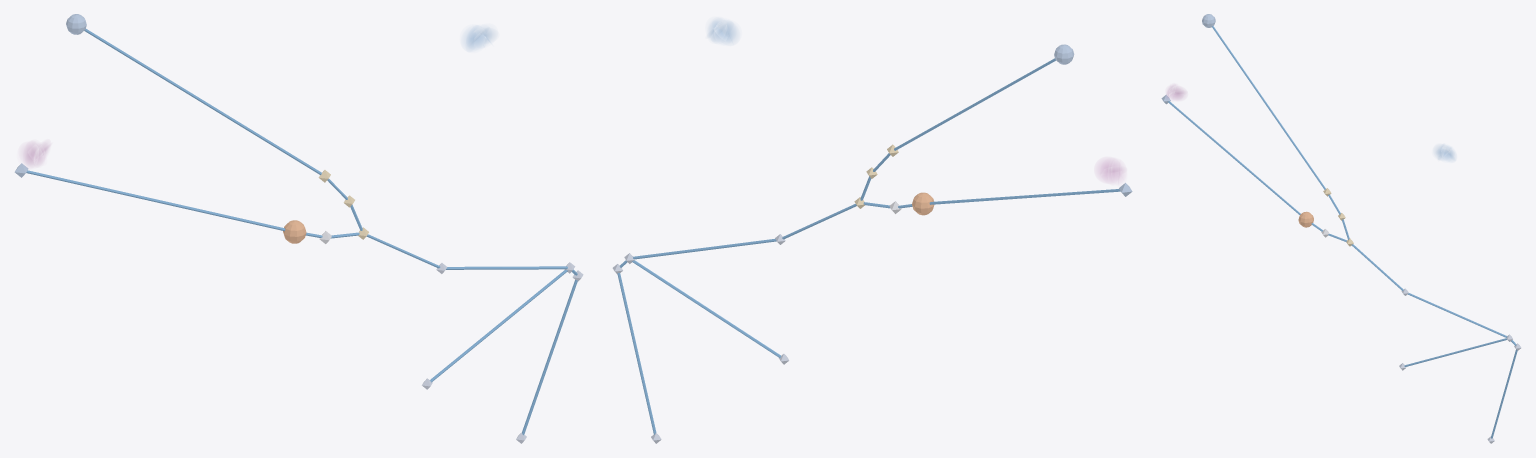
The model's file is constellation-tau.glb.
3 renders of one model, left to right at view 1: azimuth 30°, elevation 25°; view 2: azimuth 150°, elevation 25°; view 3: azimuth 330°, elevation 25°, orthographic. The views are drawn at different scales.
Bounding box in the file's own units: 3.35 × 3.04 × 0.4942.
